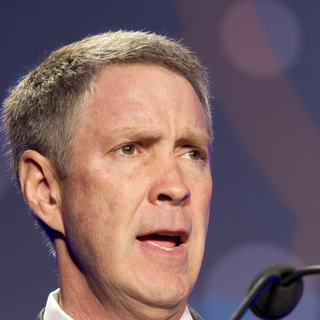eye: (175, 144, 210, 164), (108, 141, 146, 159)
